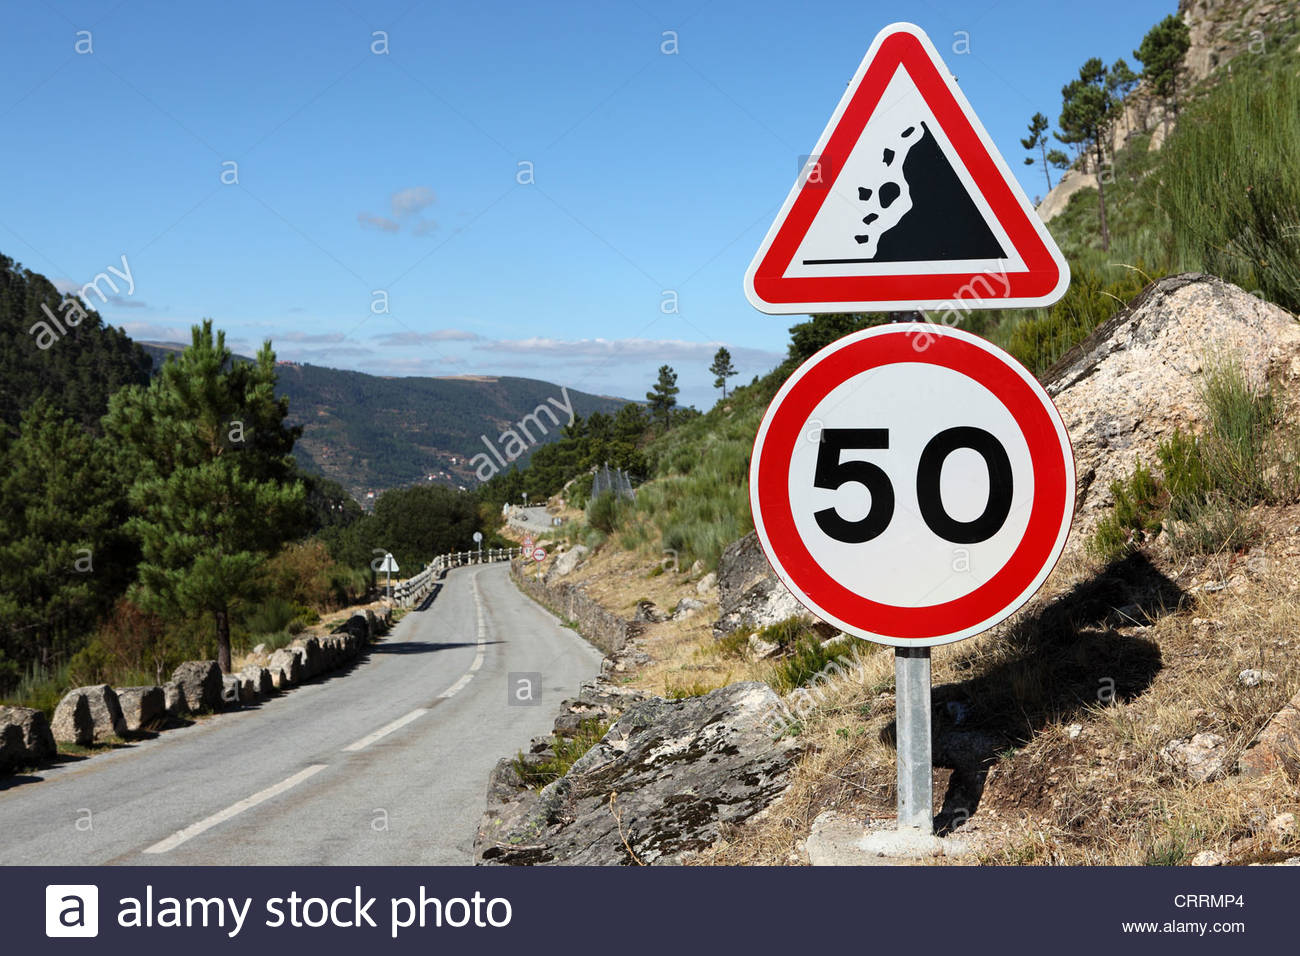speed_limit_50: (749, 324, 1073, 647)
